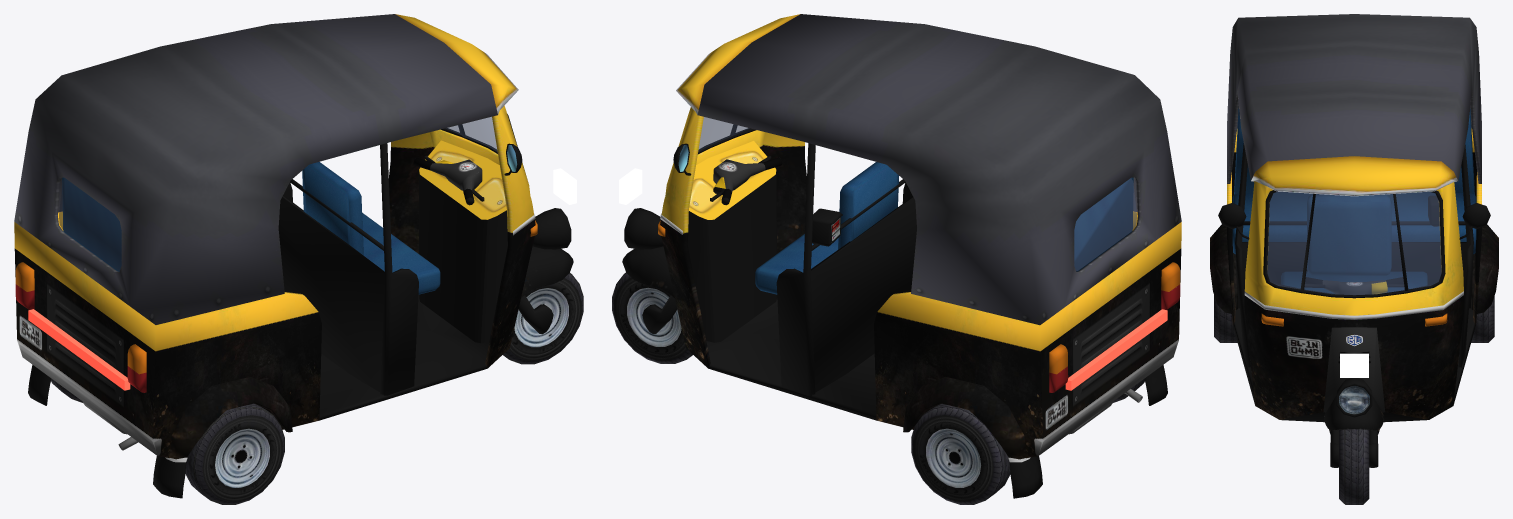
Rendered from fleet_auto2.glb.
The picture shows the model from 3 angles, left to right: view 1: azimuth 30°, elevation 25°; view 2: azimuth 150°, elevation 25°; view 3: azimuth 270°, elevation 25°; orthographic projection. The views are drawn at different scales.
Parts seen in each view (by area): view 1: Body, Wheel_RR_mesh, Glass, Wheel_F_mesh, TailBar, Headlight; view 2: Body, Wheel_RL_mesh, Glass, Wheel_F_mesh, TailBar, Headlight; view 3: Body, Glass, Wheel_F_mesh, Headlight, Wheel_RR_mesh, Wheel_RL_mesh.
Part boxes in pixels (x1=…): Body: x1=14, y1=14, x2=573, y2=498; Wheel_RR_mesh: x1=185, y1=403, x2=284, y2=504; Glass: x1=59, y1=117, x2=497, y2=270; Wheel_F_mesh: x1=503, y1=273, x2=583, y2=364; TailBar: x1=28, y1=309, x2=130, y2=390; Headlight: x1=553, y1=168, x2=576, y2=204; Body: x1=622, y1=14, x2=1181, y2=498; Wheel_RL_mesh: x1=911, y1=403, x2=1010, y2=504; Glass: x1=698, y1=117, x2=1136, y2=270; Wheel_F_mesh: x1=612, y1=272, x2=692, y2=363; TailBar: x1=1065, y1=309, x2=1167, y2=390; Headlight: x1=619, y1=168, x2=642, y2=204; Body: x1=1210, y1=14, x2=1498, y2=467; Glass: x1=1267, y1=191, x2=1441, y2=295; Wheel_F_mesh: x1=1339, y1=429, x2=1369, y2=504; Headlight: x1=1340, y1=353, x2=1368, y2=377; Wheel_RR_mesh: x1=1214, y1=295, x2=1237, y2=342; Wheel_RL_mesh: x1=1471, y1=296, x2=1494, y2=342.
Size of the model in its own units: 2.7 by 1.8 by 1.5.
6 materials, 3 textured.
